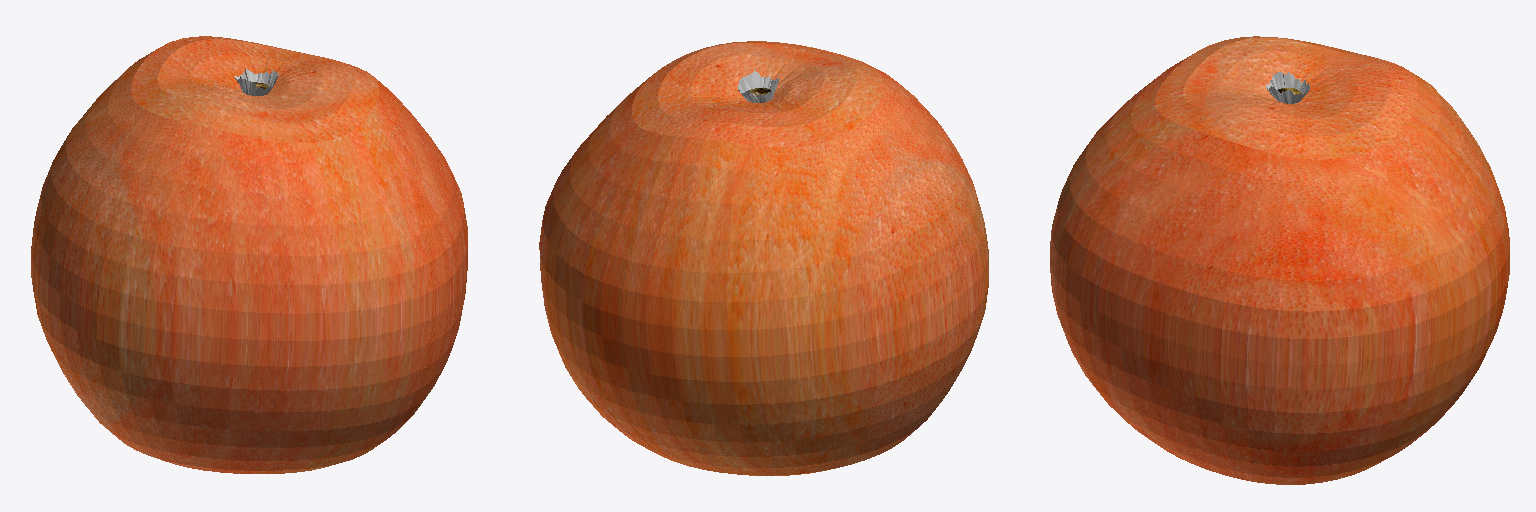
The picture shows the model from 3 angles: view 1: azimuth 30°, elevation 25°; view 2: azimuth 150°, elevation 25°; view 3: azimuth 270°, elevation 25°; orthographic projection.
Parts seen in each view (by area): view 1: Grapefruit02, Grapefruit_Top02, Grapefruit_Stem02; view 2: Grapefruit02, Grapefruit_Top02, Grapefruit_Stem02; view 3: Grapefruit02, Grapefruit_Top02, Grapefruit_Stem02.
Boxes of the visible parts, x1,y1,x2,y2 form: Grapefruit02: [31, 49, 467, 473]; Grapefruit_Top02: [131, 36, 378, 142]; Grapefruit_Stem02: [234, 69, 278, 95]; Grapefruit02: [539, 67, 988, 475]; Grapefruit_Top02: [632, 41, 883, 146]; Grapefruit_Stem02: [737, 70, 779, 102]; Grapefruit02: [1050, 54, 1509, 484]; Grapefruit_Top02: [1155, 36, 1417, 159]; Grapefruit_Stem02: [1266, 72, 1309, 103].
Bounding box in the file's own units: 60.89 × 54.4 × 62.5.
3 materials, 2 textured.